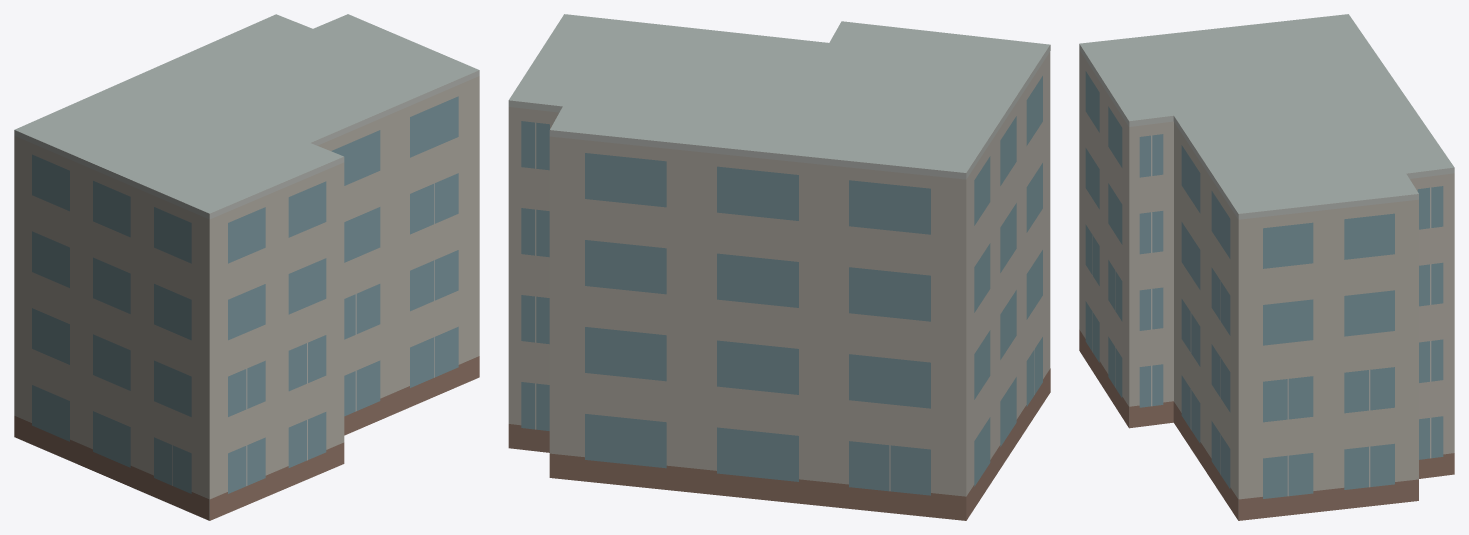
Rendered from survey-upis-32946266.glb.
The picture shows the model from 3 angles, left to right: view 1: azimuth 30°, elevation 25°; view 2: azimuth 150°, elevation 25°; view 3: azimuth 270°, elevation 25°; orthographic projection. The views are drawn at different scales.
Visible parts, largest first — view 1: survey-upis-32946266.tmp; view 2: survey-upis-32946266.tmp; view 3: survey-upis-32946266.tmp.
Boxes of the visible parts, bbox=[...] form: survey-upis-32946266.tmp: bbox=[14, 14, 479, 520]; survey-upis-32946266.tmp: bbox=[508, 14, 1050, 520]; survey-upis-32946266.tmp: bbox=[1079, 14, 1454, 520].
Bounding box in the file's own units: 18.18 × 13 × 14.42.
